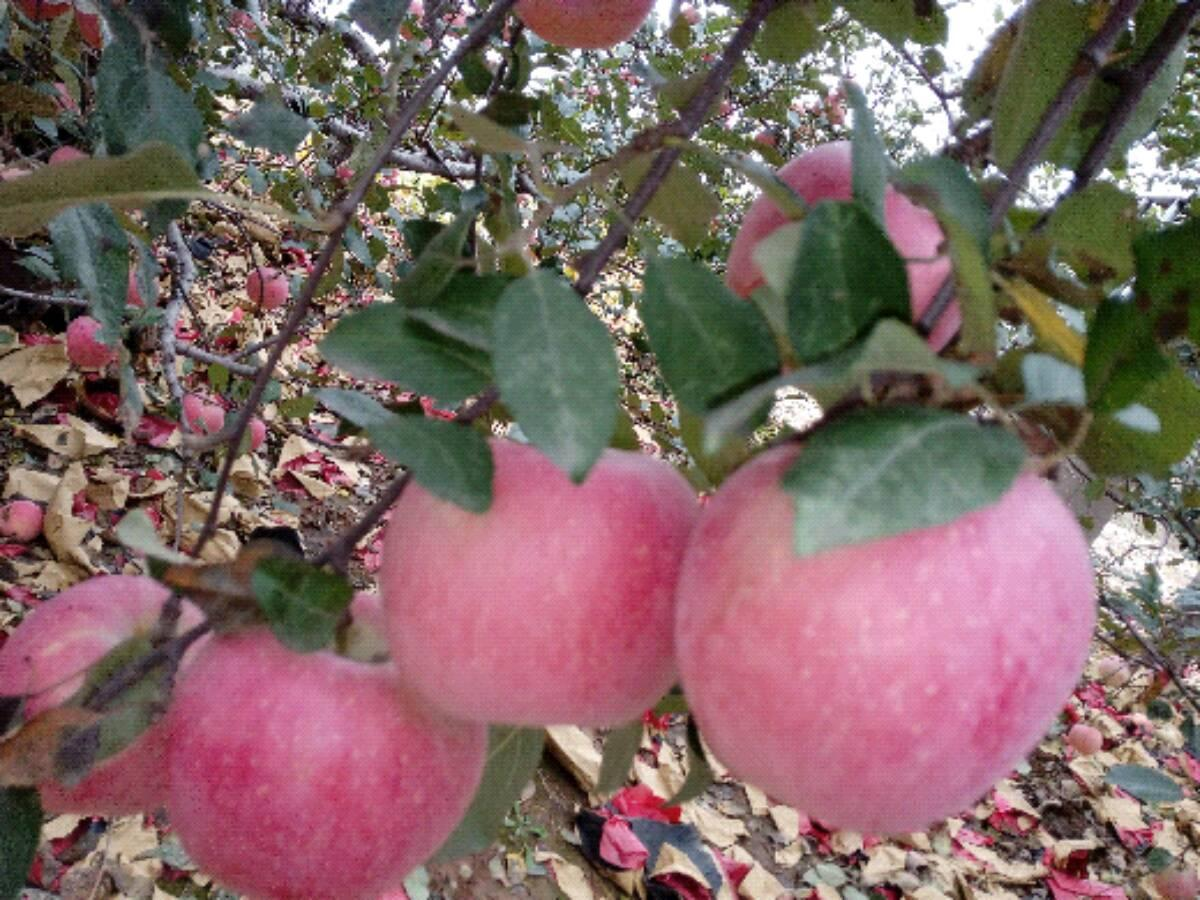apple: (674, 431, 1097, 841), (374, 432, 690, 723), (172, 626, 497, 887)
